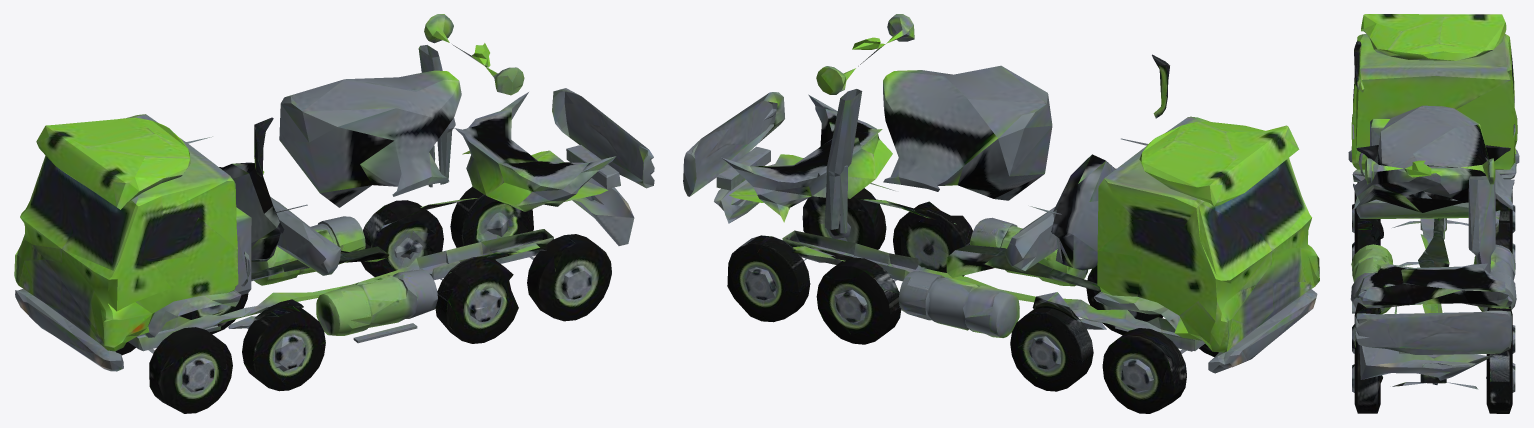
File: veh_garbage.glb
3 views of the same model, side by side, from view 1: azimuth 30°, elevation 25°; view 2: azimuth 150°, elevation 25°; view 3: azimuth 270°, elevation 25° (orthographic). The views are drawn at different scales.
Parts seen in each view (by area): view 1: output_unwrapped; view 2: output_unwrapped; view 3: output_unwrapped.
Part boxes in pixels (x1,y1,x2,y2): output_unwrapped: (14, 14, 654, 413); output_unwrapped: (683, 14, 1319, 413); output_unwrapped: (1348, 14, 1519, 413).
Bounding box in the file's own units: 0.9478 × 0.456 × 0.2955.
1 material, 1 textured.
